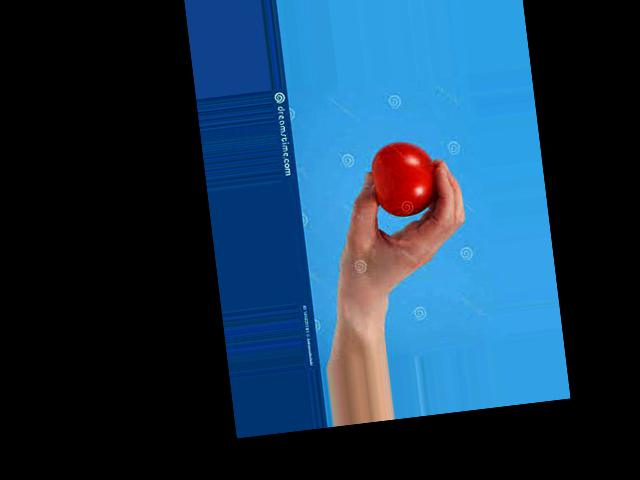tomato: (369, 138, 441, 218)
